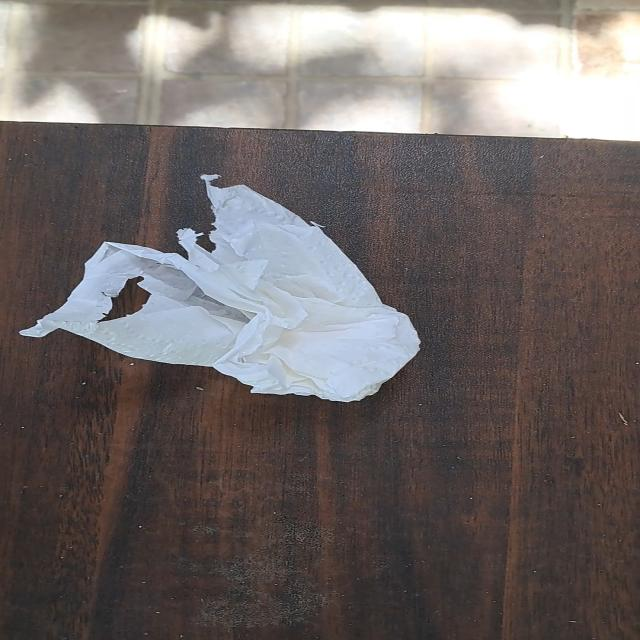Organik: (31, 174, 423, 400)
